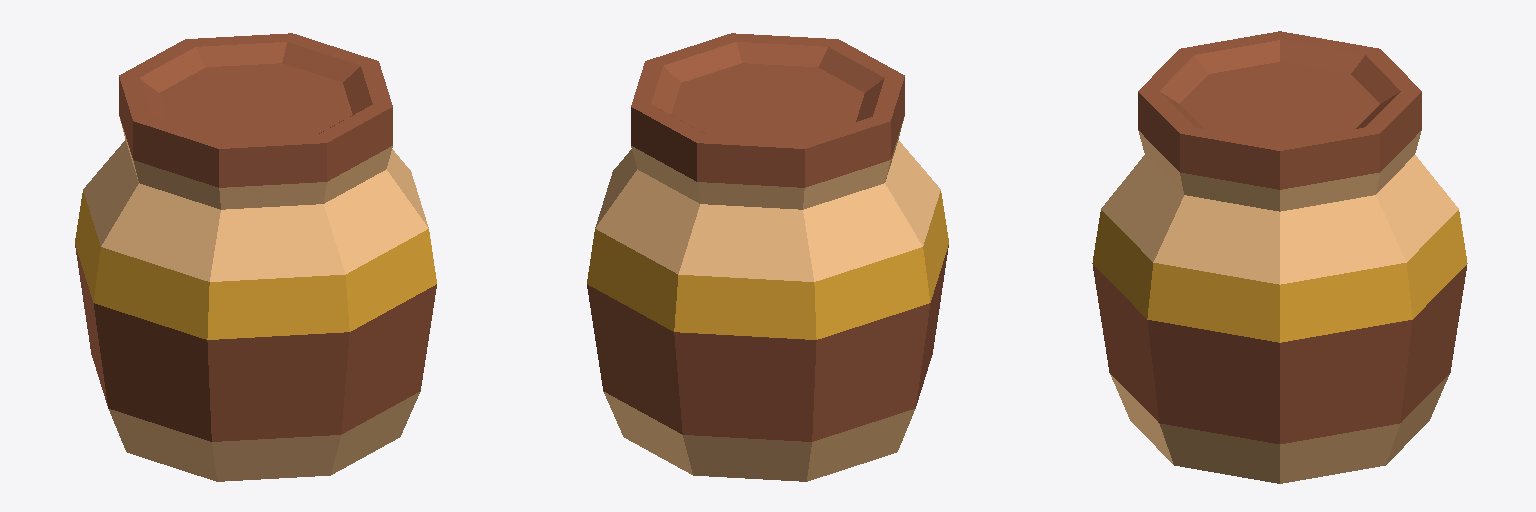
The model's file is honey.obj.
The picture shows the model from 3 angles: view 1: azimuth 30°, elevation 25°; view 2: azimuth 150°, elevation 25°; view 3: azimuth 270°, elevation 25°; orthographic projection.
Parts seen in each view (by area): view 1: honey; view 2: honey; view 3: honey.
Part boxes in pixels (x1,y1,x2,y2): honey: (75,33,436,481); honey: (587,33,948,481); honey: (1092,31,1467,483).
Bounding box in the file's own units: 0.326 × 0.316 × 0.326.